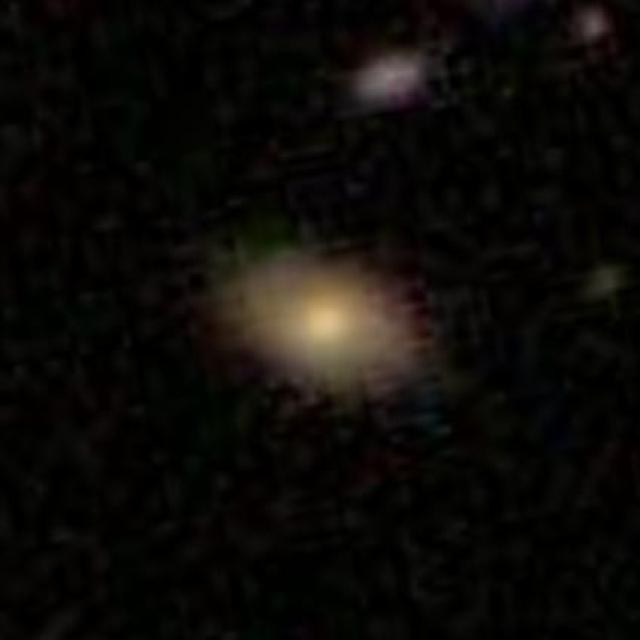galaxy: (174, 213, 463, 425), (343, 49, 435, 114), (582, 258, 636, 308), (574, 4, 611, 47)
